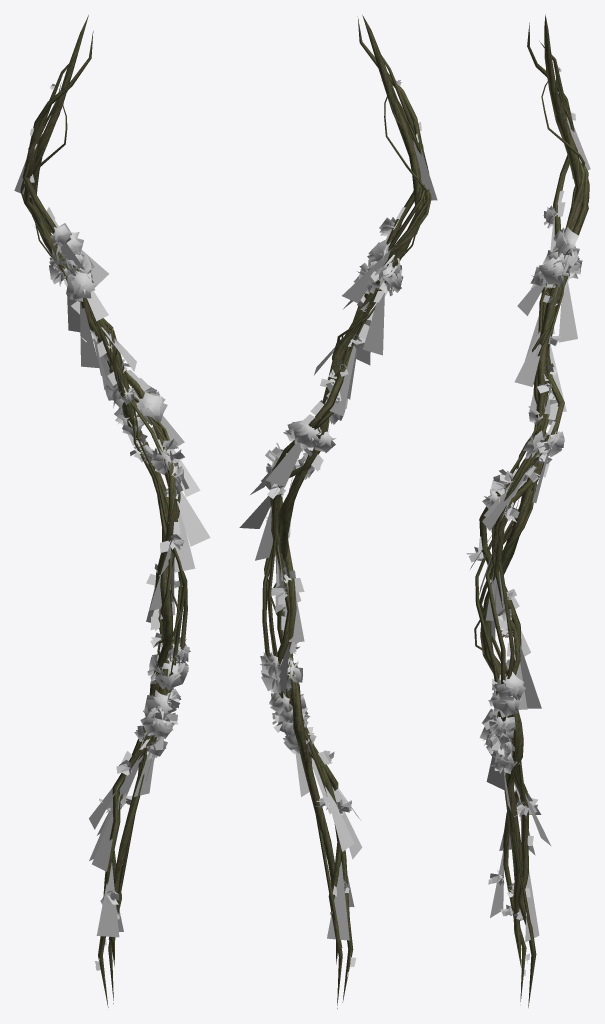
The model's file is Liana2_L2.fbx.
The picture shows the model from 3 angles, left to right: view 1: azimuth 30°, elevation 25°; view 2: azimuth 210°, elevation 25°; view 3: azimuth 270°, elevation 25°; orthographic projection.
Visible parts, largest first — view 1: polySurface41; view 2: polySurface41; view 3: polySurface41.
Part boxes in pixels (box(x1,y1,x2,y2)): polySurface41: box(14, 15, 210, 1007); polySurface41: box(239, 15, 437, 1008); polySurface41: box(466, 14, 590, 1007).
Size of the model in its own units: 215 by 1433 by 164.
